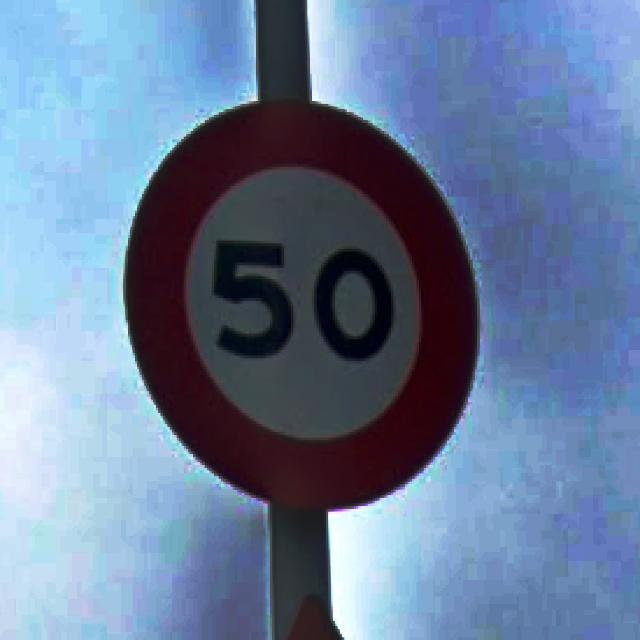max50: (123, 96, 480, 511)
